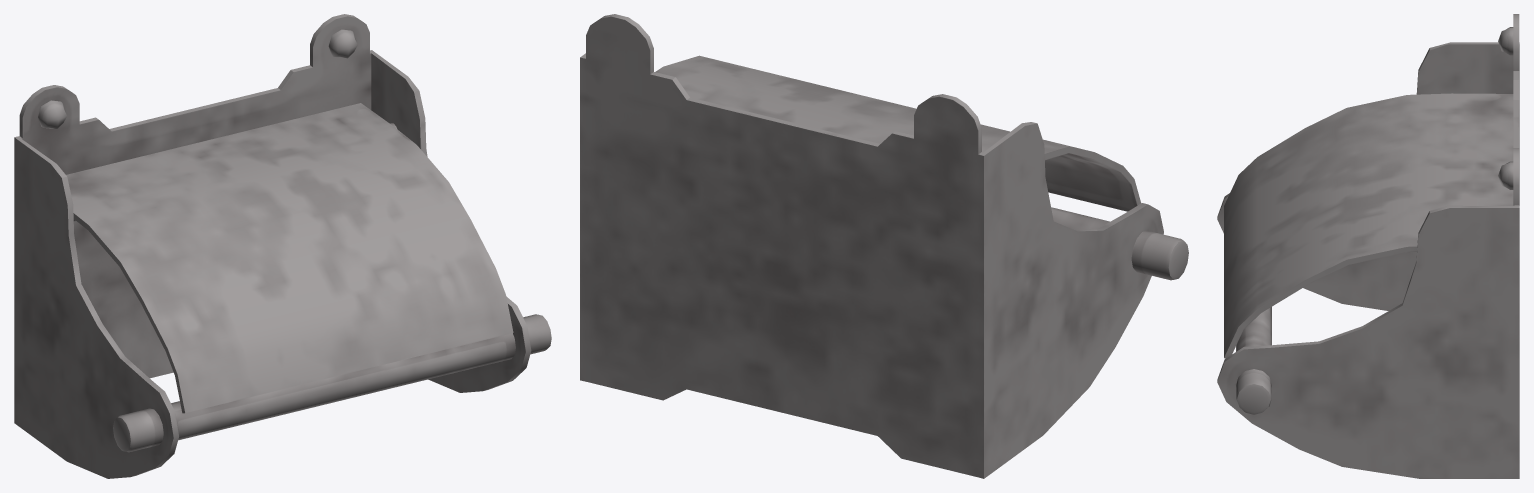
The model's file is SM_Tissue_Hanger.fbx.
The picture shows the model from 3 angles, left to right: view 1: azimuth 30°, elevation 25°; view 2: azimuth 150°, elevation 25°; view 3: azimuth 270°, elevation 25°; orthographic projection. The views are drawn at different scales.
Parts seen in each view (by area): view 1: SM_Tissue_Hanger; view 2: SM_Tissue_Hanger; view 3: SM_Tissue_Hanger.
Part boxes in pixels (x1=…): SM_Tissue_Hanger: x1=14, y1=14, x2=551, y2=478; SM_Tissue_Hanger: x1=580, y1=14, x2=1188, y2=478; SM_Tissue_Hanger: x1=1217, y1=14, x2=1519, y2=478.
Size of the model in its own units: 17.87 by 11.68 by 13.28.
1 material, 1 textured.
